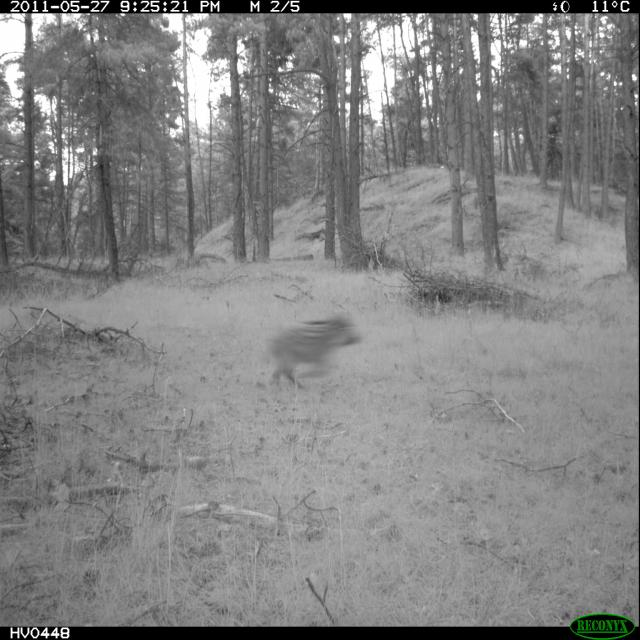boar: (253, 286, 369, 410)
